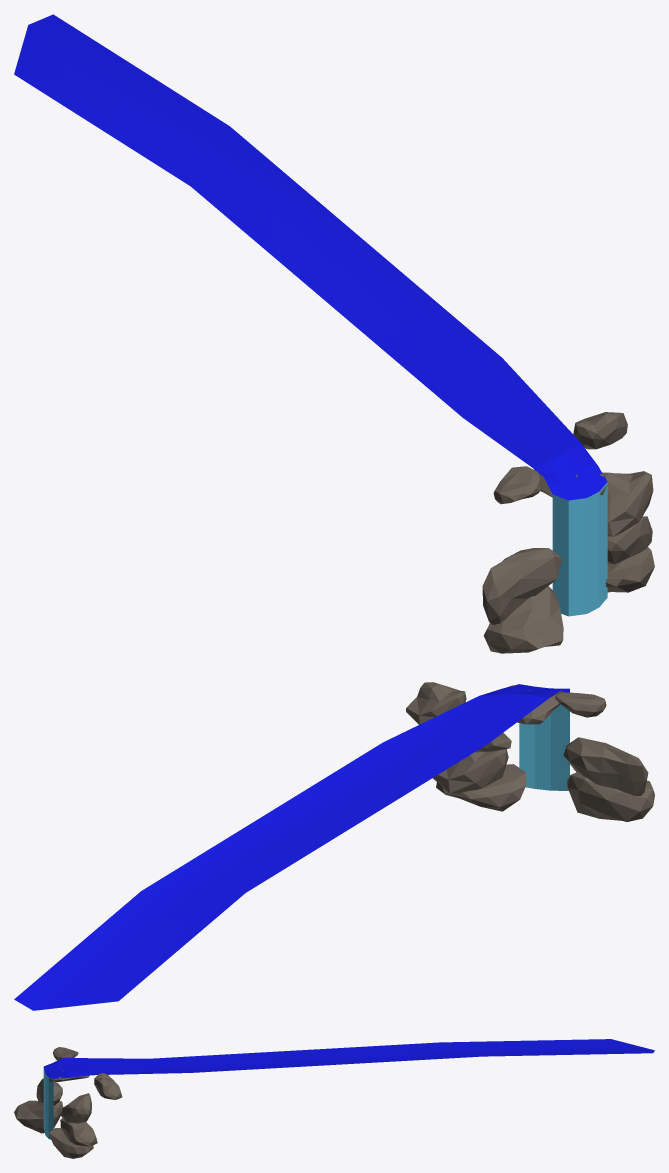
Rendered from Waterfall.fbx.
3 renders of one model, top to bottom at view 1: azimuth 30°, elevation 25°; view 2: azimuth 150°, elevation 25°; view 3: azimuth 270°, elevation 25°, orthographic. The views are drawn at different scales.
Visible parts, largest first — view 1: Waterfall; view 2: Waterfall; view 3: Waterfall.
Part boxes in pixels (<box>): Waterfall: <box>14,14,654,653</box>; Waterfall: <box>14,682,654,1010</box>; Waterfall: <box>14,1039,654,1158</box>.
Bounding box in the file's own units: 1272 × 1118 × 6452.
